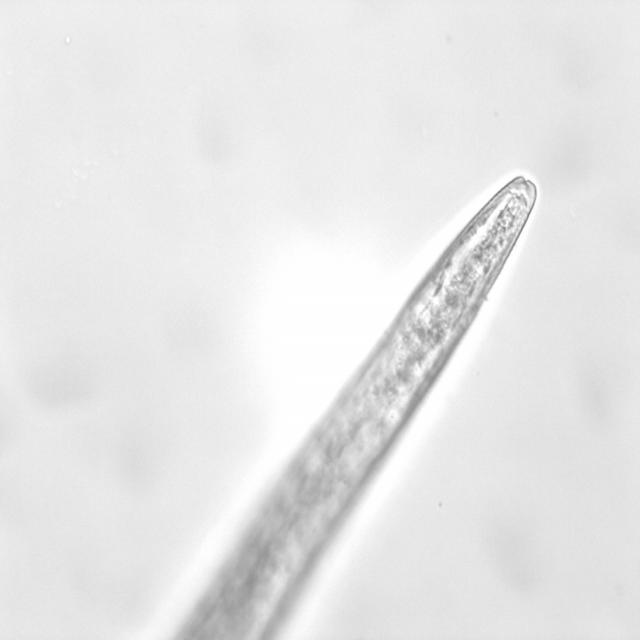Pratylenchus: (371, 163, 542, 396)
